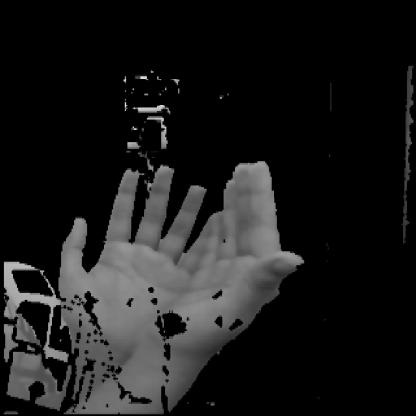dua: (27, 134, 320, 414)
